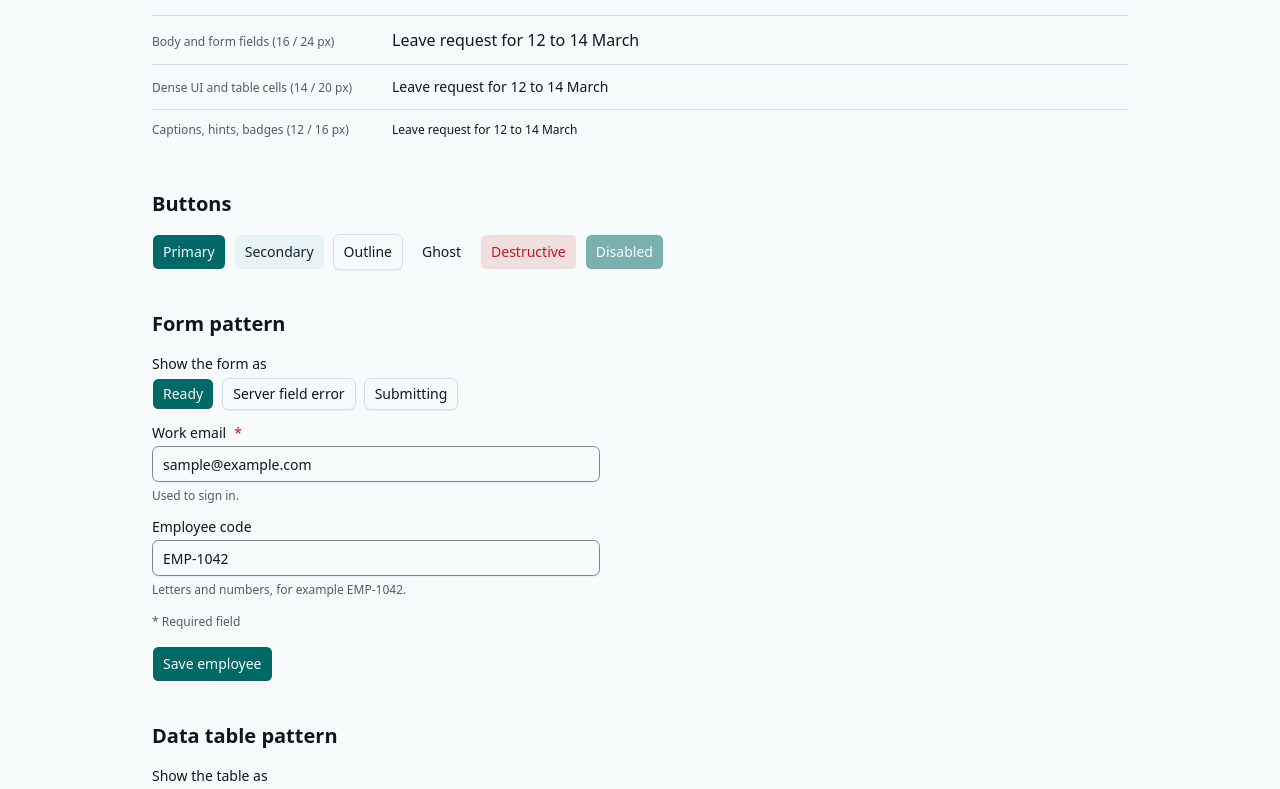
Test: FoundationPreview › form states › shows a server field error on the email field
This screenshot has width=1280, height=789.
(page scrolled)
Step 1. Click the button "Server field error" → click(289, 394), box [222,378,356,410]
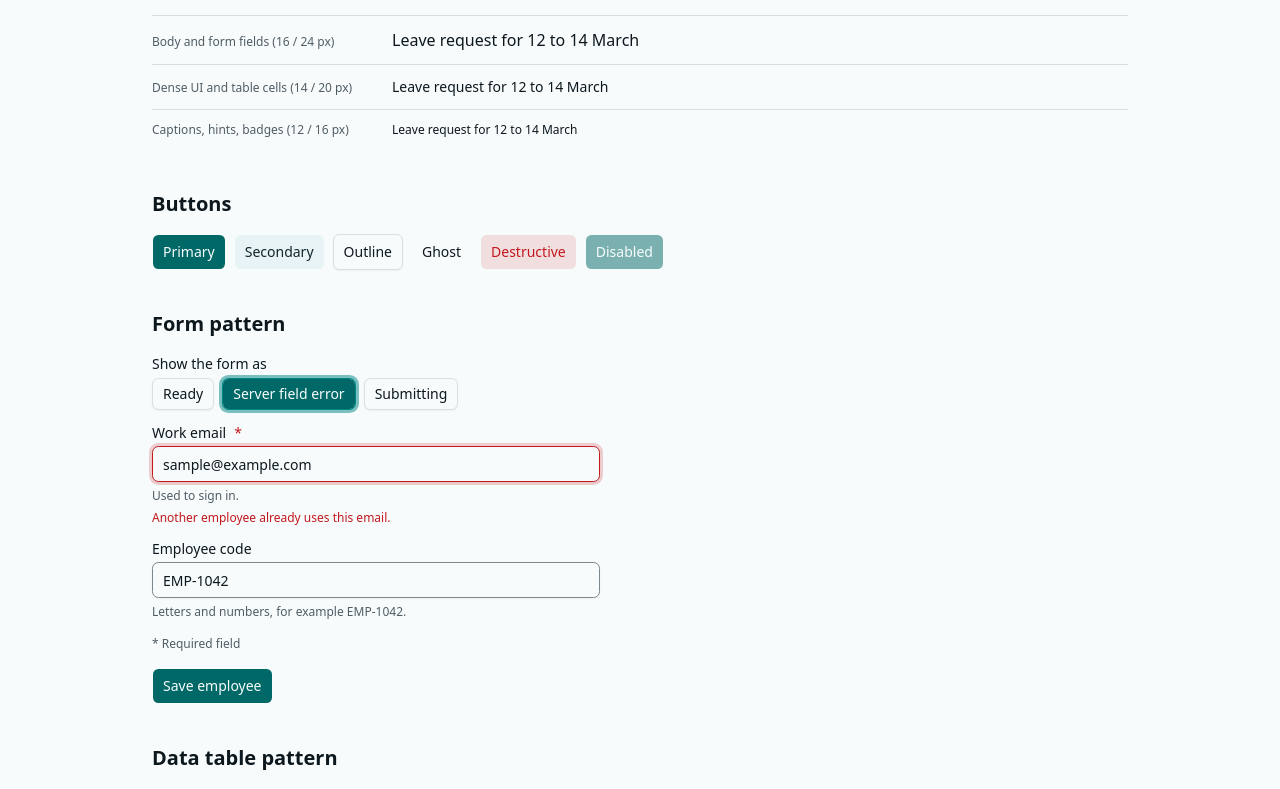
Now the message reads "Another employee already uses this email.", box [152,509,390,526]
